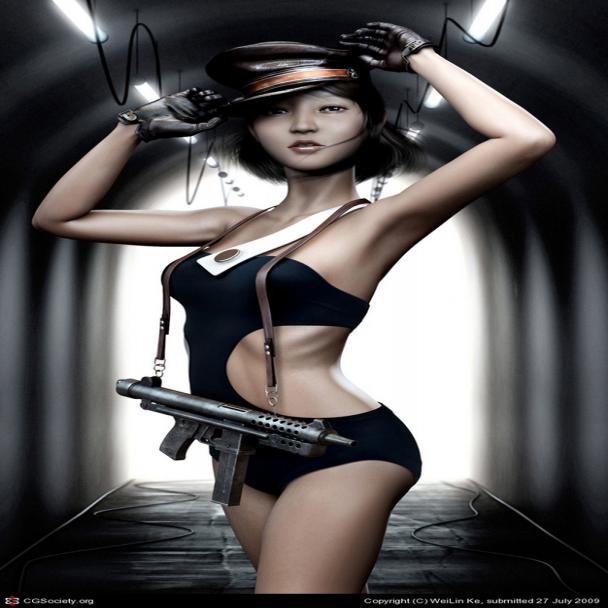Gun: (110, 374, 356, 479)
Hand: (113, 87, 234, 141), (331, 18, 429, 70)
